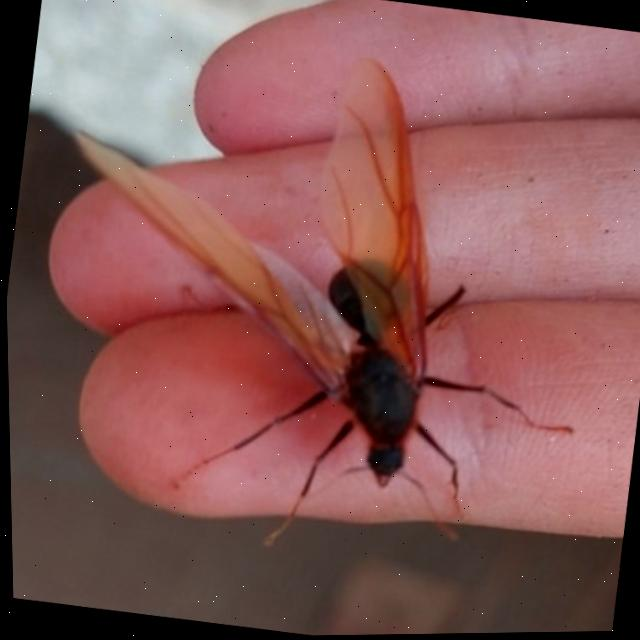Alive-Male-Alate: (21, 30, 622, 568)
